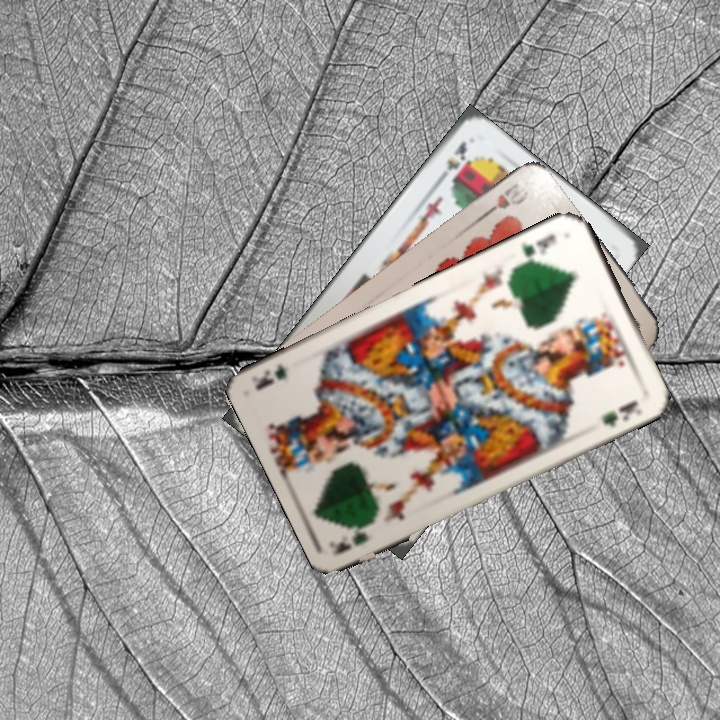GK: (514, 230, 559, 270), (328, 527, 372, 556)
H10: (478, 179, 525, 221)
SK: (432, 137, 470, 187)
